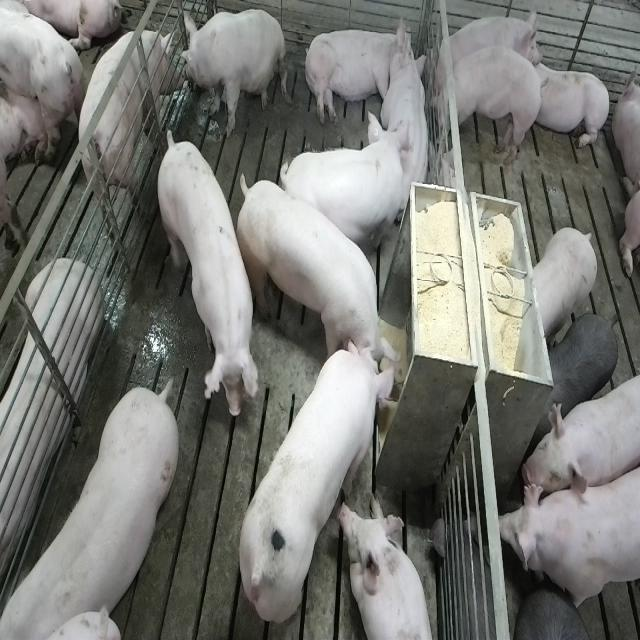Feeding: (236, 335, 400, 625), (231, 168, 400, 382)
Lateral_lying: (302, 15, 418, 128)
Sitting: (178, 7, 286, 139)
Standing: (5, 376, 184, 636), (154, 122, 258, 423), (499, 456, 638, 620), (79, 27, 179, 238), (518, 366, 636, 509), (279, 147, 408, 262), (430, 45, 544, 171), (0, 0, 79, 159), (542, 310, 618, 430), (531, 226, 598, 346), (513, 590, 607, 640)
Sternal_lying: (0, 262, 100, 596), (342, 495, 437, 640), (381, 43, 433, 212), (528, 53, 612, 154), (451, 12, 547, 82)
